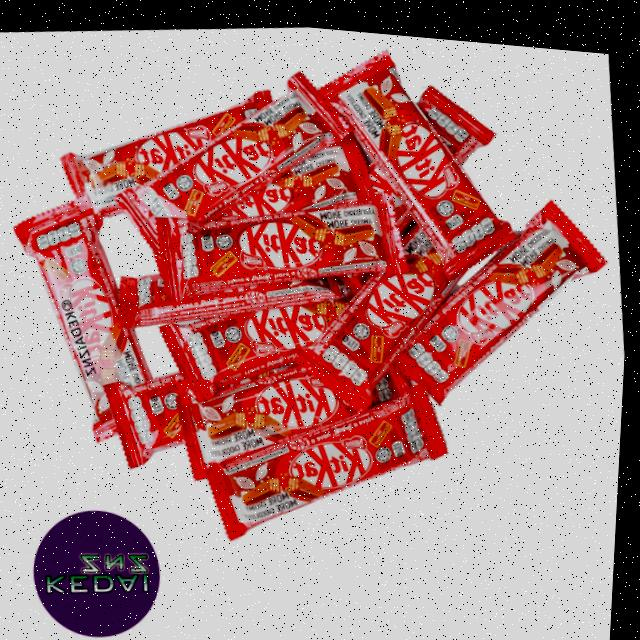kitkat: (119, 34, 359, 254), (396, 175, 625, 397), (314, 35, 516, 266), (13, 184, 179, 448), (174, 167, 439, 330), (210, 372, 449, 545), (53, 70, 296, 228), (196, 320, 423, 487), (304, 215, 495, 413), (161, 260, 371, 402)
